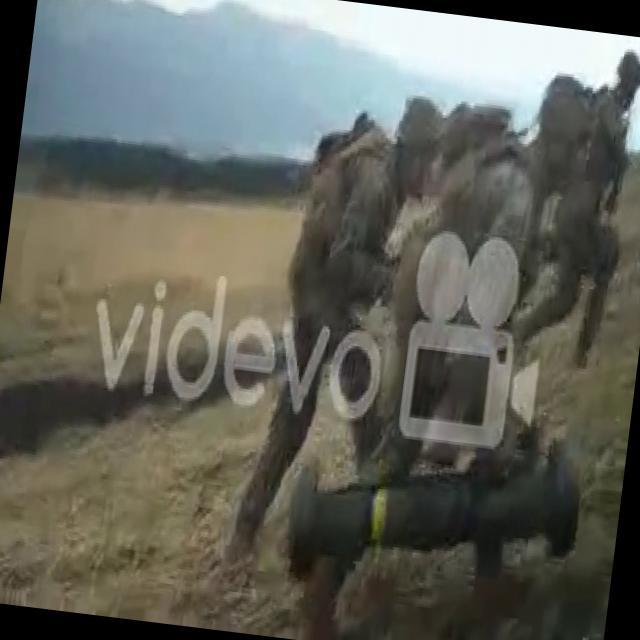rocket: (279, 424, 586, 616)
